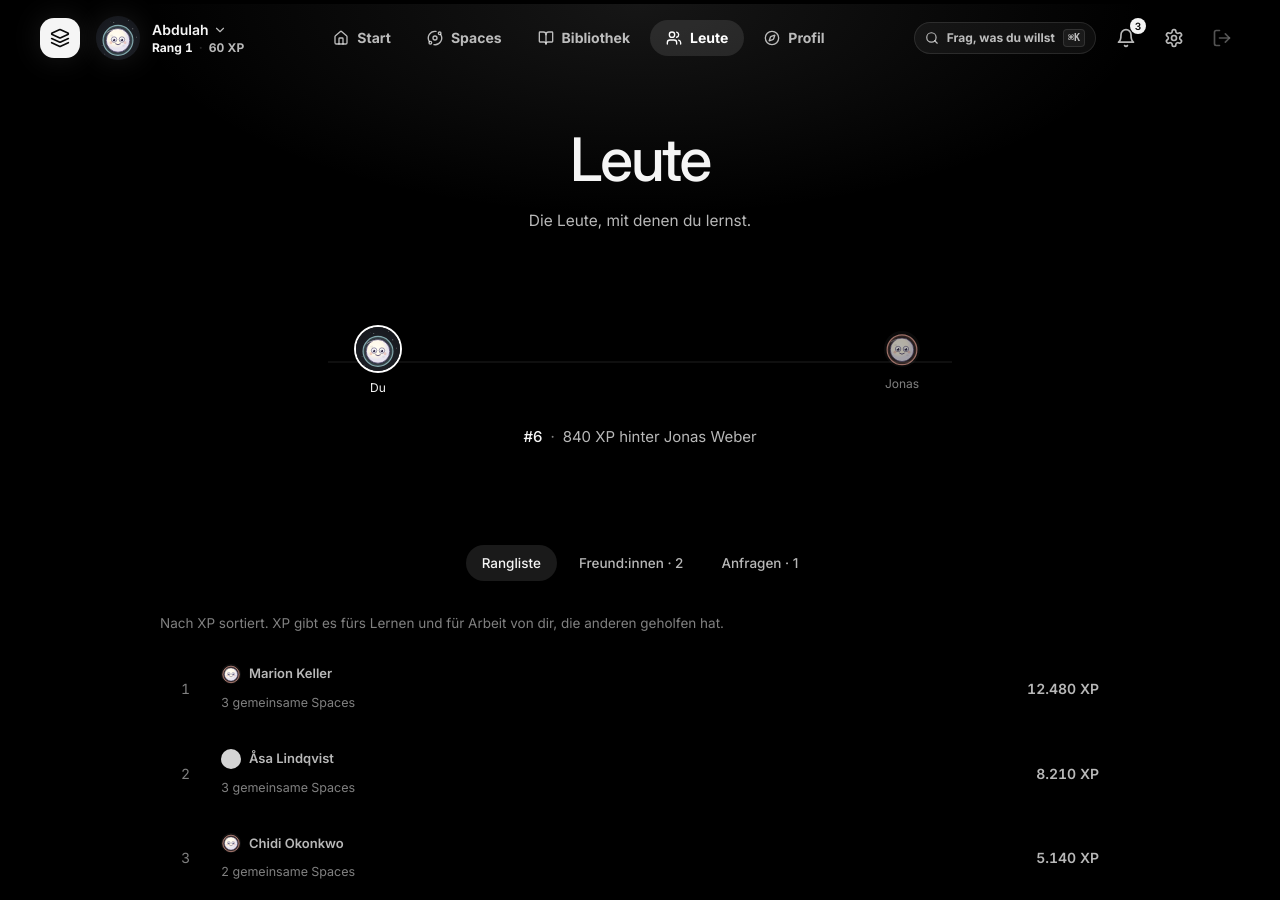
Scenario: Social, in German › requests, and the empty state once they are all answered
Click the tab "Anfragen · 1".
click(760, 563)  # box [705,545,814,581]
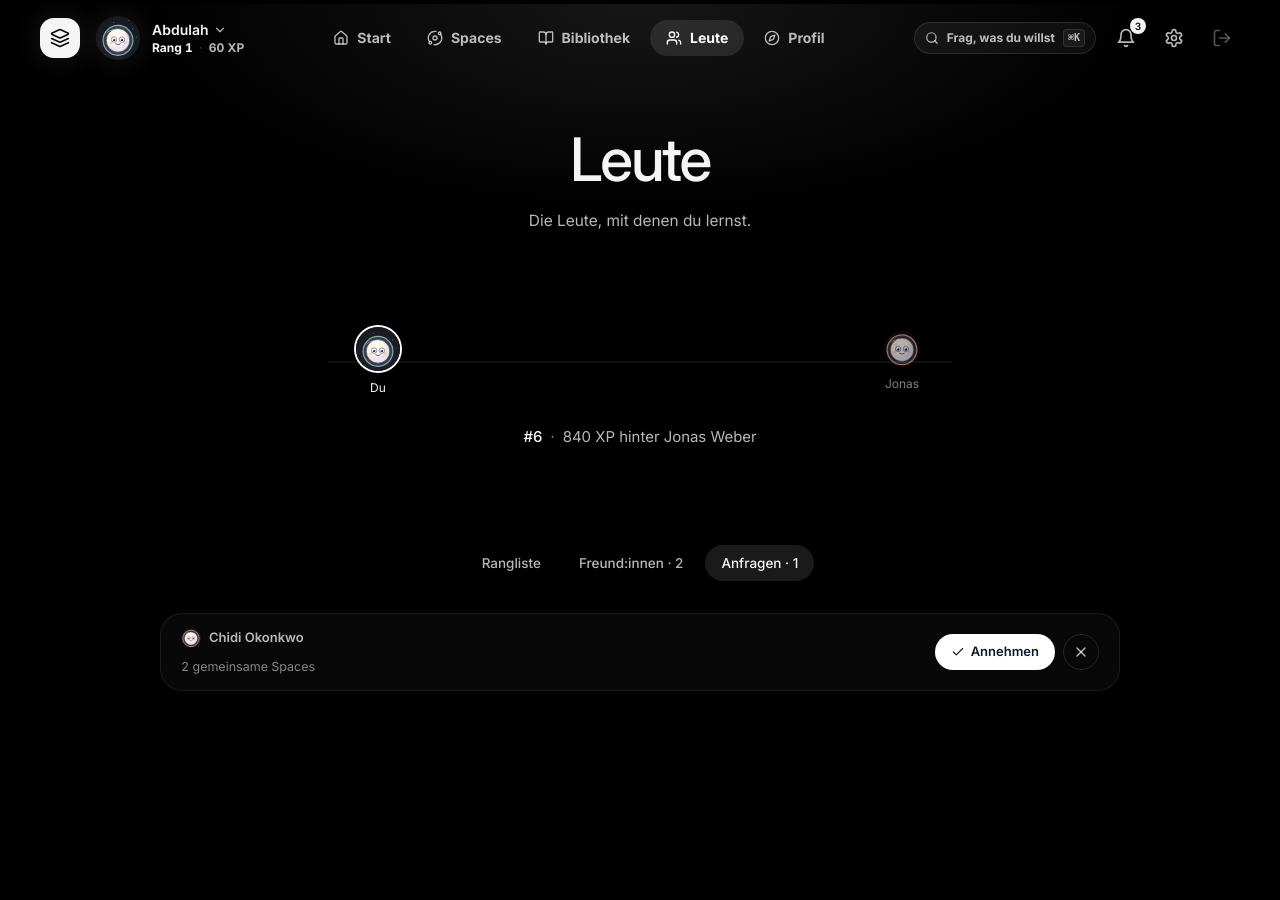
Expected: the button "Annehmen" is shown, [935,634,1055,670]
Click the button named "Anfrage von Chidi Okonkwo ablehnen".
click(1081, 652)  # box [1063,634,1099,670]
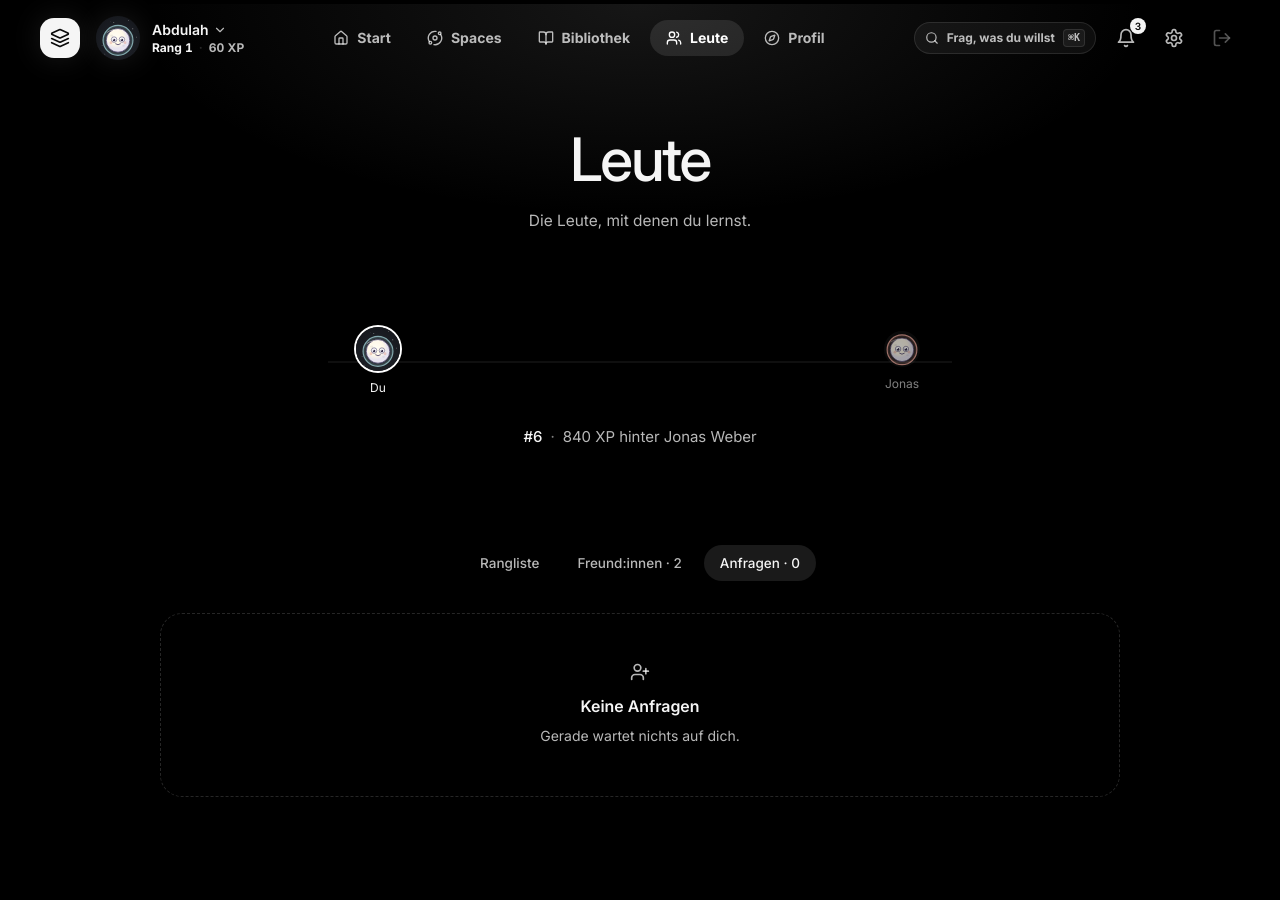
Expected: the text "Keine Anfragen" is shown, [580,696,700,716]
